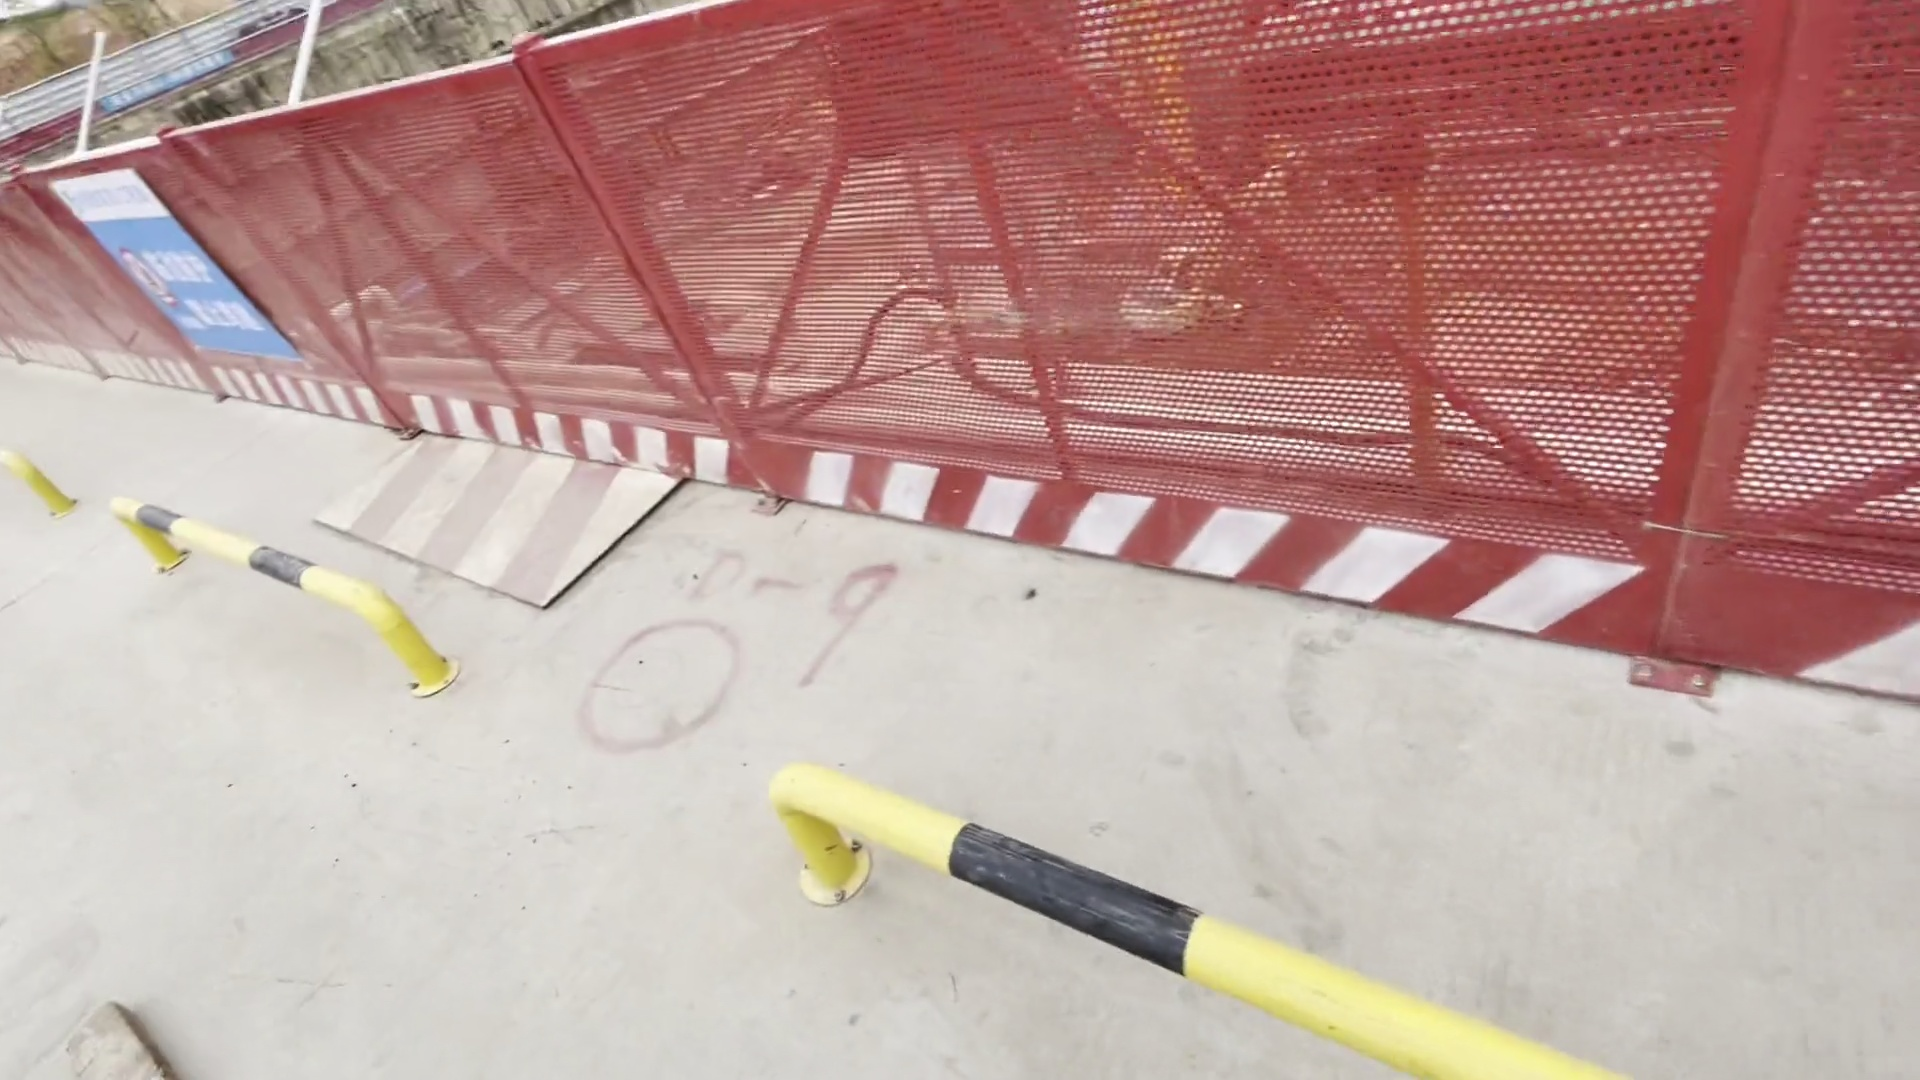fence: (158, 12, 1920, 711)
slogan: (105, 187, 269, 353)
